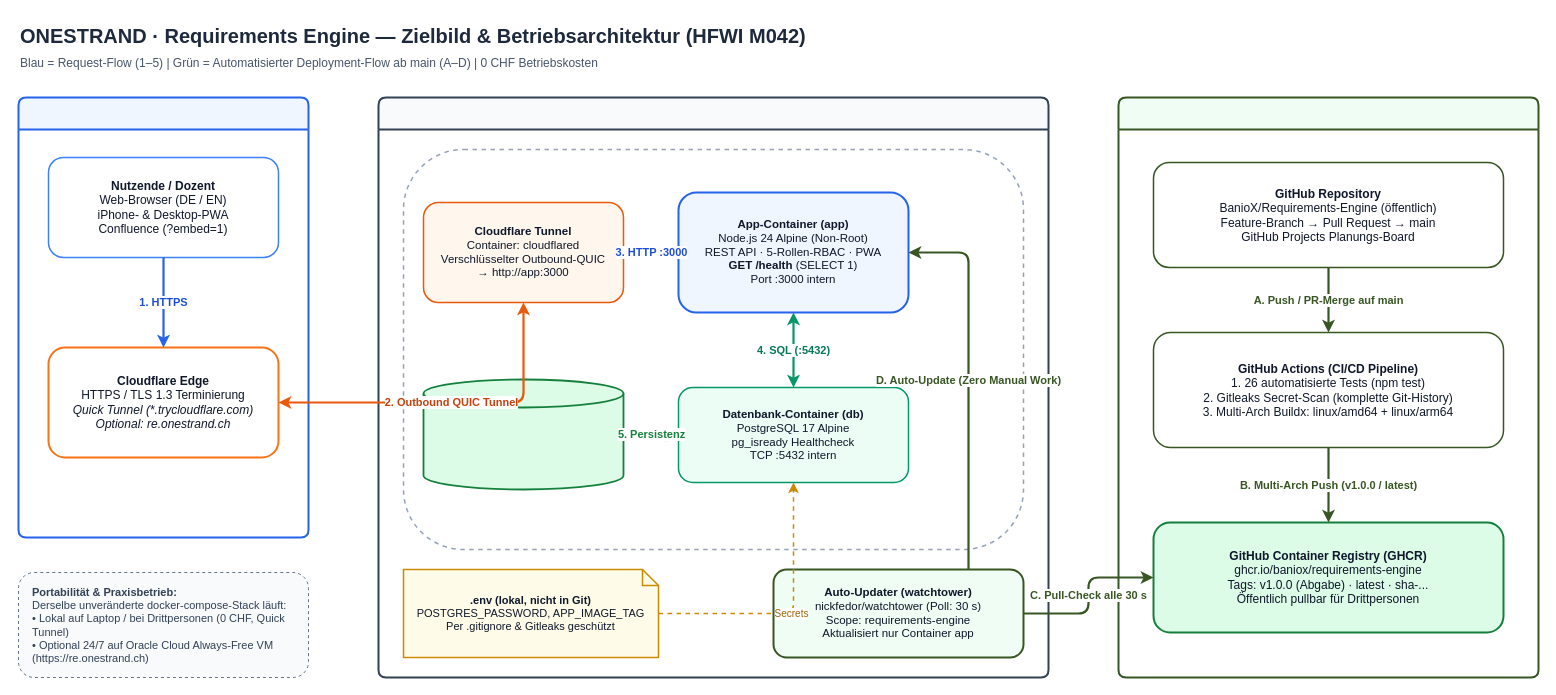
Some shapes in this 1556 by 695 pixel diagram are drawn without their labels. The shapes that lost their labels are listed below. From the top down, each one's box as (x1, y1, x2, y2) in pixels, then its label:
(17, 96, 309, 538): Internet & Cloudflare Edge (TLS / HTTPS)
(402, 148, 1024, 550): Internes Docker-Netzwerk (keine offenen Router-Ports nötig)
(377, 96, 1049, 678): Lokaler Laptop (Windows ARM64 + Docker Desktop — docker compose up -d)
(1117, 96, 1539, 678): GitHub Cloud (CI/CD & Container Registry)
(422, 378, 624, 490): Docker Named Volume pg_data (persistent) /var/lib/postgresql/data
